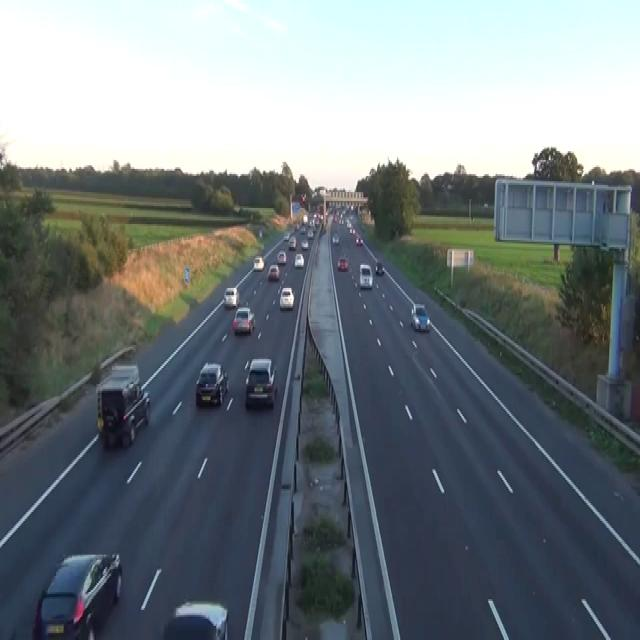Car: (32, 551, 122, 638), (162, 599, 228, 638), (244, 357, 277, 409), (195, 361, 228, 407), (232, 306, 255, 334), (110, 363, 139, 384), (410, 302, 430, 331), (279, 286, 294, 310), (223, 286, 239, 308), (359, 263, 373, 288), (267, 263, 279, 281), (253, 256, 264, 270), (337, 256, 348, 270), (276, 249, 286, 263), (294, 252, 304, 266), (375, 260, 383, 274), (288, 235, 296, 249), (331, 231, 339, 244), (300, 238, 308, 249), (355, 235, 363, 245), (307, 228, 314, 238), (300, 192, 306, 203), (302, 213, 308, 224), (283, 231, 289, 240), (346, 218, 351, 228), (294, 222, 299, 231), (300, 226, 306, 233), (258, 228, 262, 238), (350, 226, 355, 234), (339, 217, 344, 224)
Truck: (95, 363, 150, 448)
